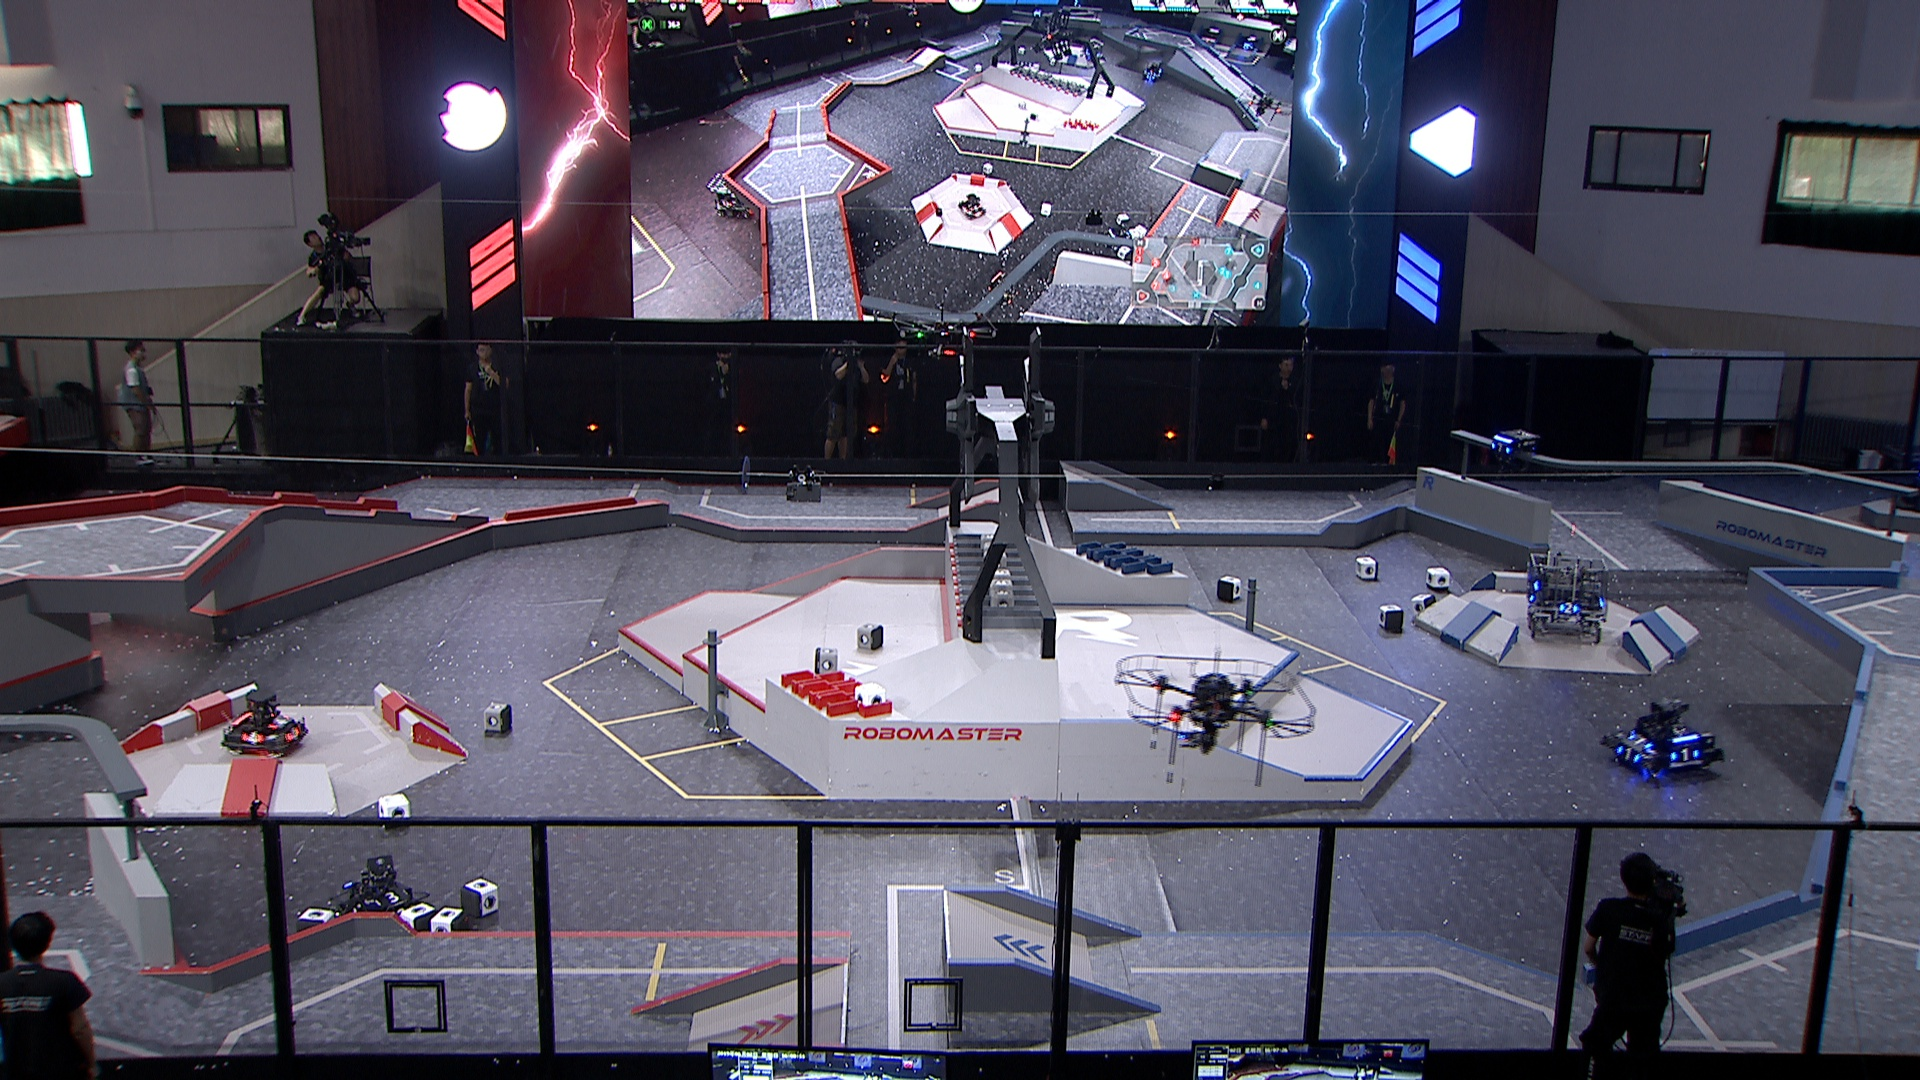armor: (376, 884, 407, 906), (1669, 746, 1700, 764), (1629, 731, 1652, 752), (1615, 745, 1640, 764), (268, 713, 290, 731), (237, 731, 262, 744), (1557, 600, 1577, 616), (286, 723, 299, 742), (1493, 440, 1509, 454)
car: (1602, 698, 1726, 785), (1522, 545, 1613, 645), (219, 690, 313, 764), (335, 858, 423, 935)
ignore: (707, 167, 752, 220), (982, 266, 1021, 309), (956, 187, 988, 218), (1083, 36, 1106, 63), (1143, 58, 1164, 82), (1237, 33, 1258, 54), (1201, 26, 1221, 47)
watcher: (1480, 419, 1542, 480)
